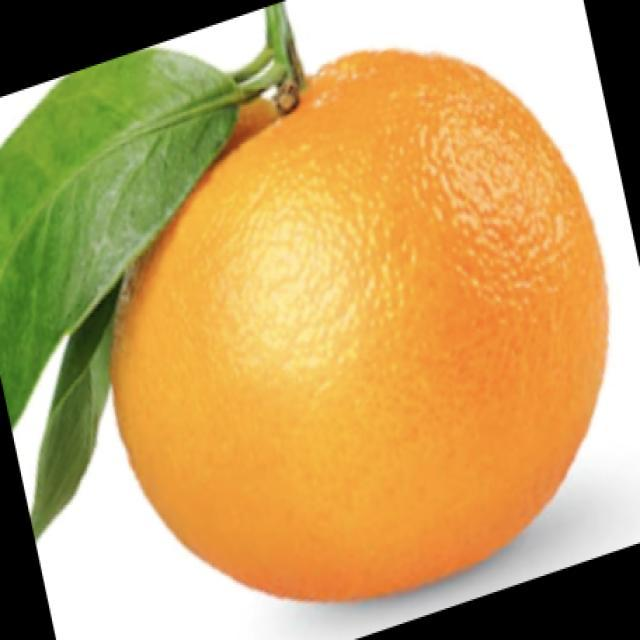matang: (114, 50, 607, 600)
